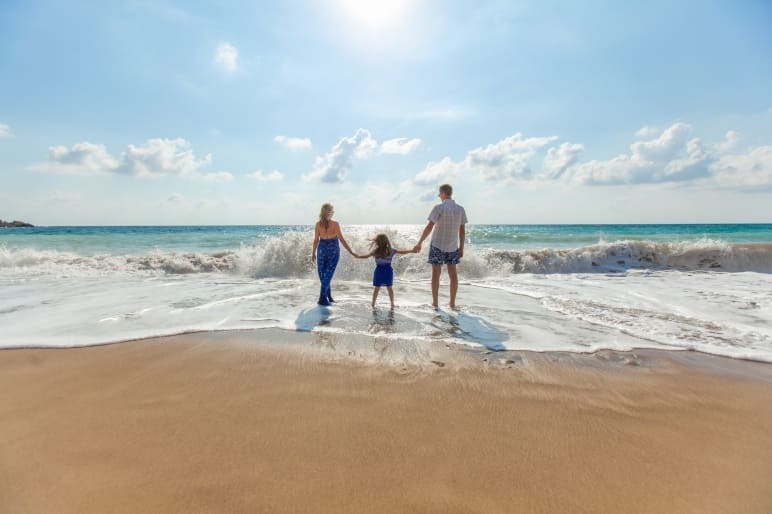person: (431, 187, 467, 310), (316, 204, 342, 310), (370, 237, 402, 319)
